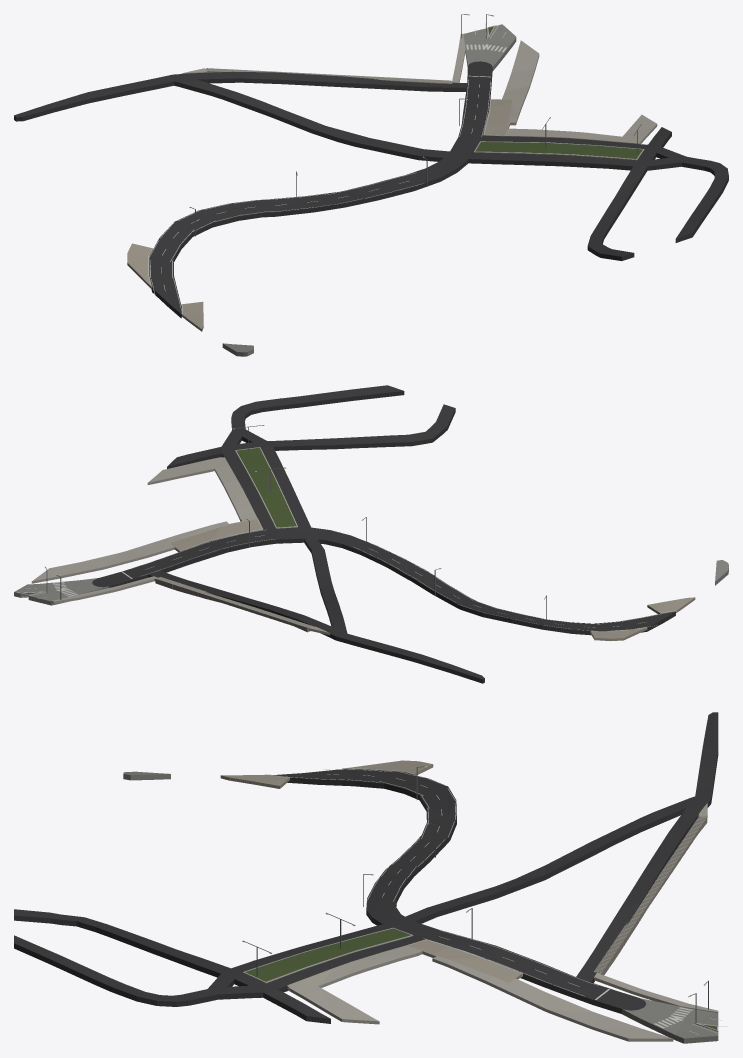
The picture shows the model from 3 angles, top to bottom: view 1: azimuth 30°, elevation 25°; view 2: azimuth 150°, elevation 25°; view 3: azimuth 270°, elevation 25°; orthographic projection. The views are drawn at different scales.
Bounding box in the file's own units: 148 × 23.05 × 148.
